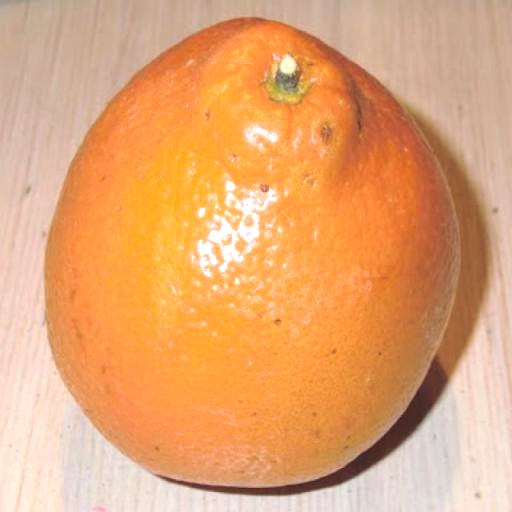fruit: (45, 20, 458, 486)
